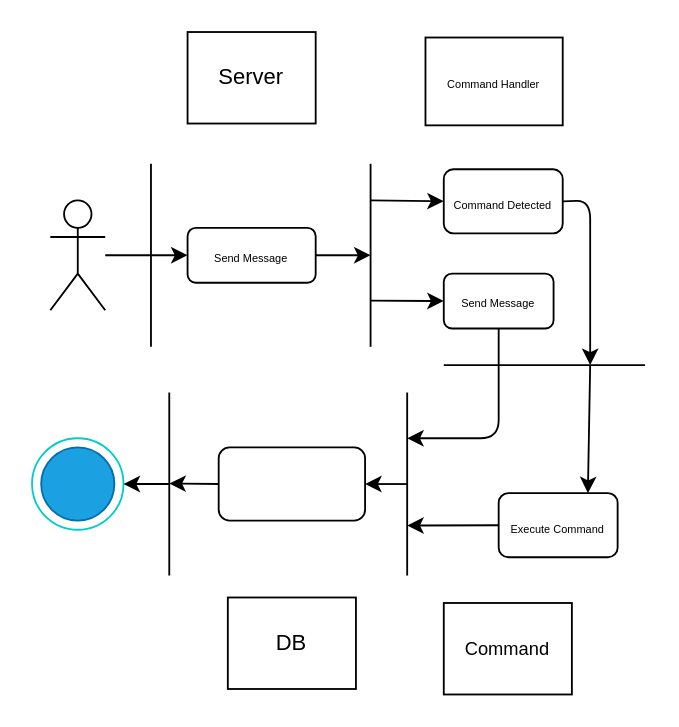
The diagram is 679 pixels wide and 727 high, and some of its shapes have lost their labels. The centre of each missing label's shape, as x and y in pixels:
Log Server Activities: point (291, 483)
User: point (76, 254)
